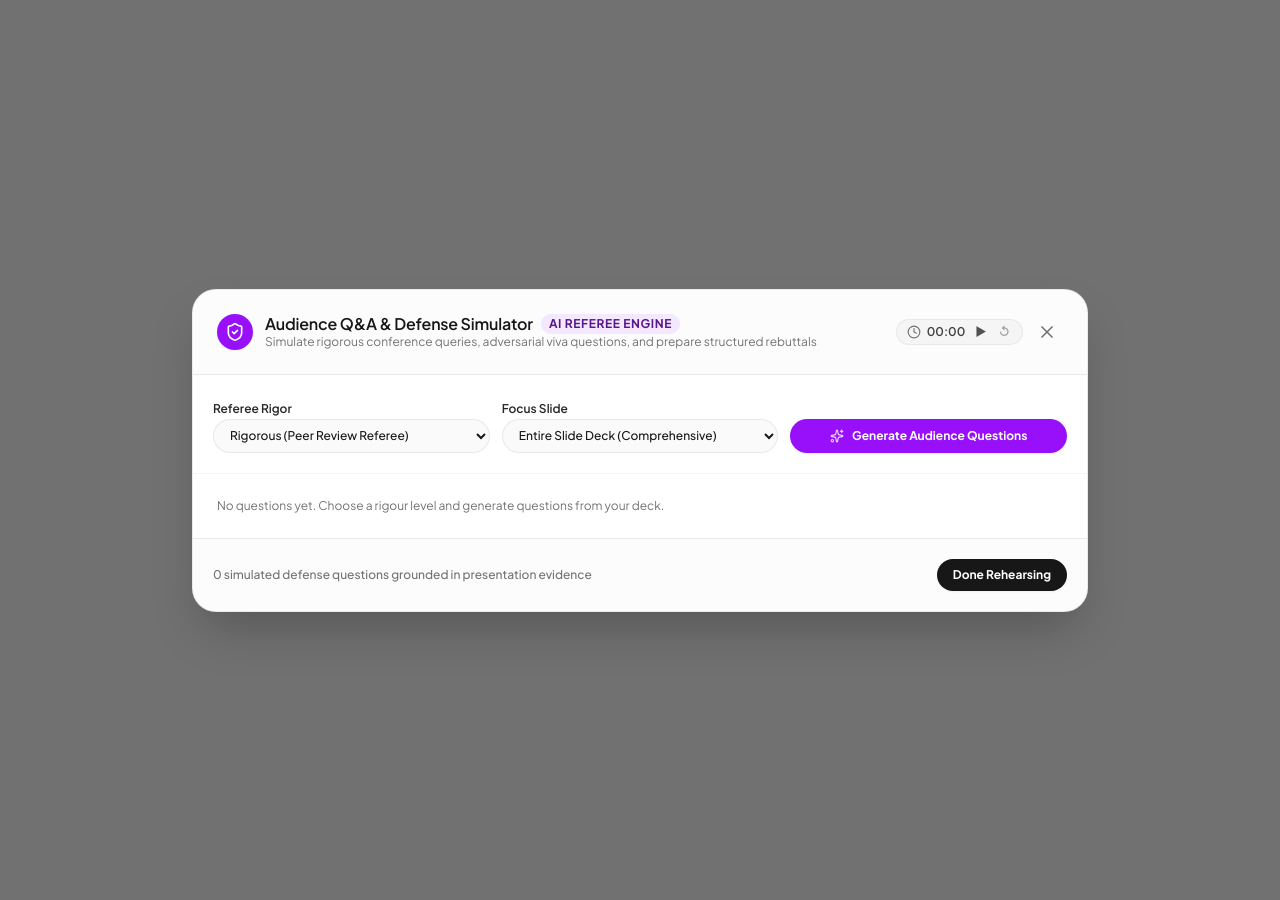
Scenario: AudienceQaSimulator › simulates referee questions via POST /qa-simulate with difficulty selection
Note: Change difficulty to Adversarial
Select "Adversarial (Hostile Defense Examiner)" in the dropdown labelled "Referee Rigor": (351, 436) 213,418 -> 490,452
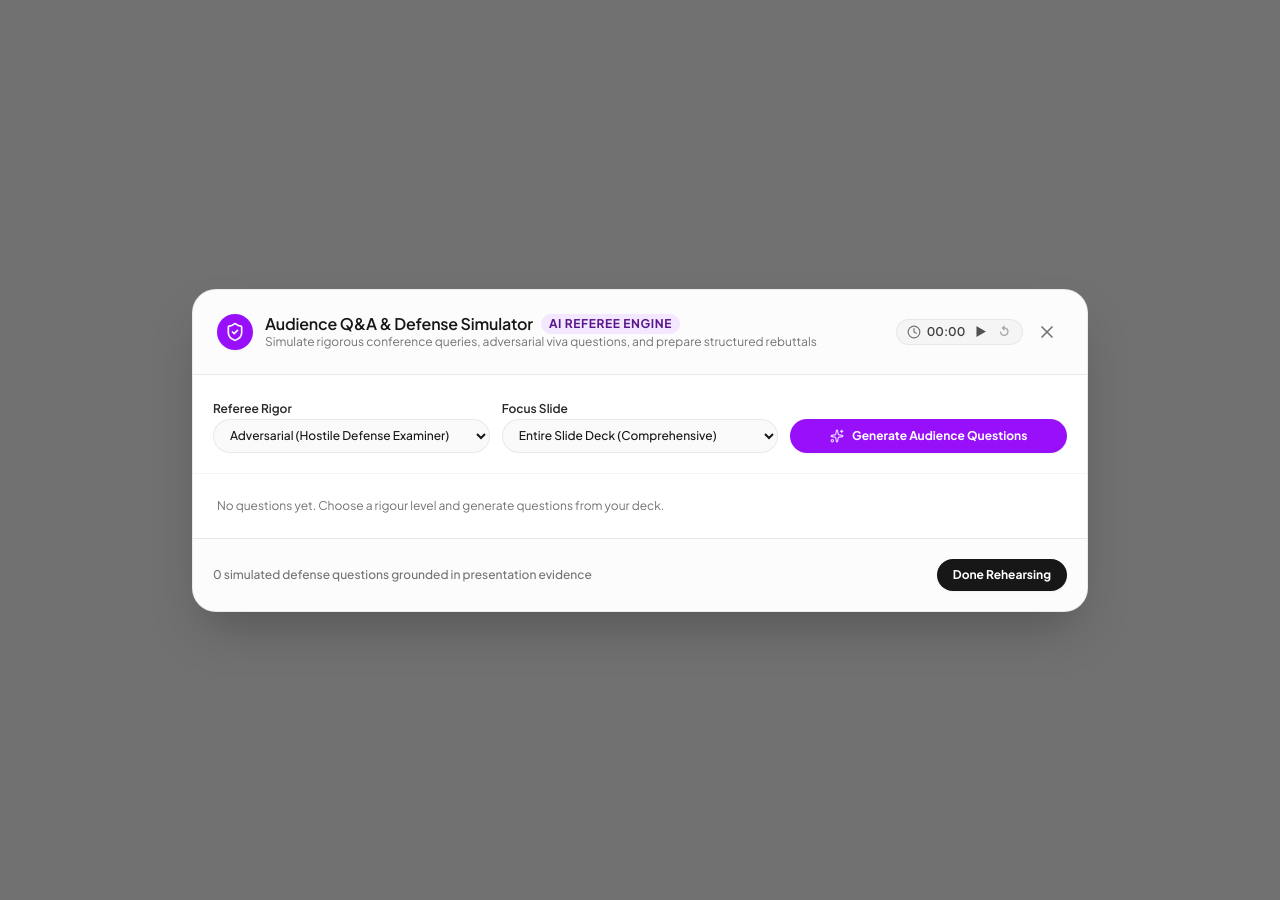
Note: Click Generate Audience Questions
Click the button with test id "run-qa-simulation-btn": click(929, 436) 790,418 -> 1067,452
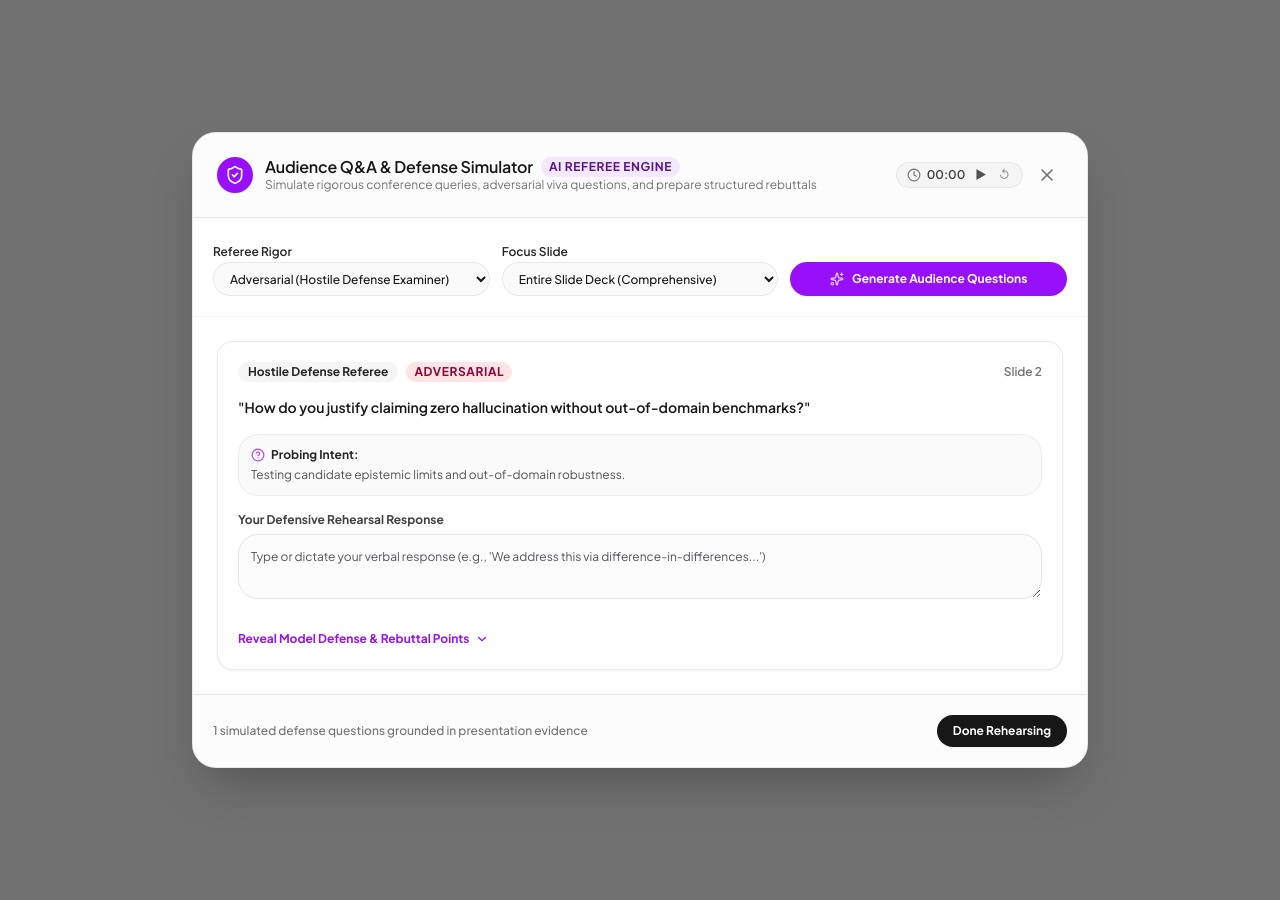
Expected: the text "How do you justify claiming zero hallucination without out-of-domain benchmarks?" is shown, 244,398 -> 804,416
Expected: the text "Hostile Defense Referee" is shown, 238,362 -> 398,382
